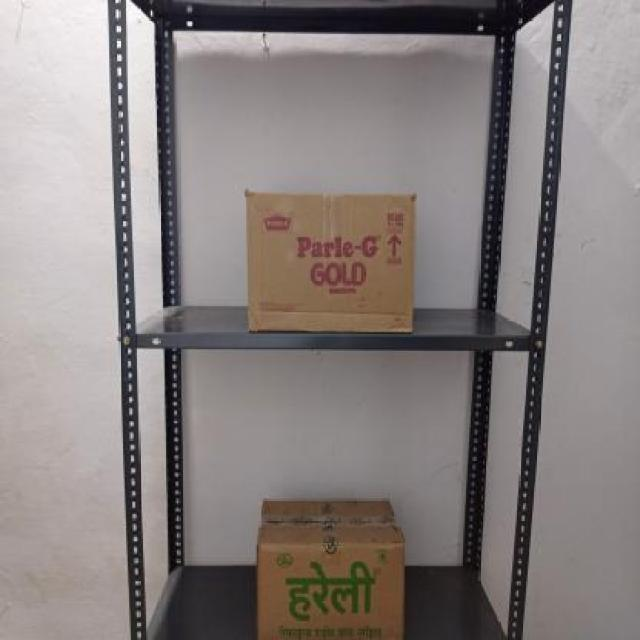box: (243, 189, 414, 331), (256, 541, 405, 640)
